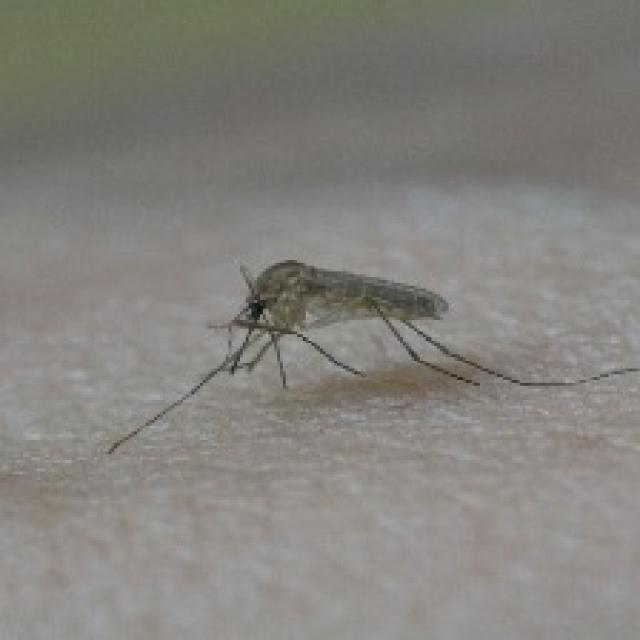culex: (103, 255, 637, 454)
